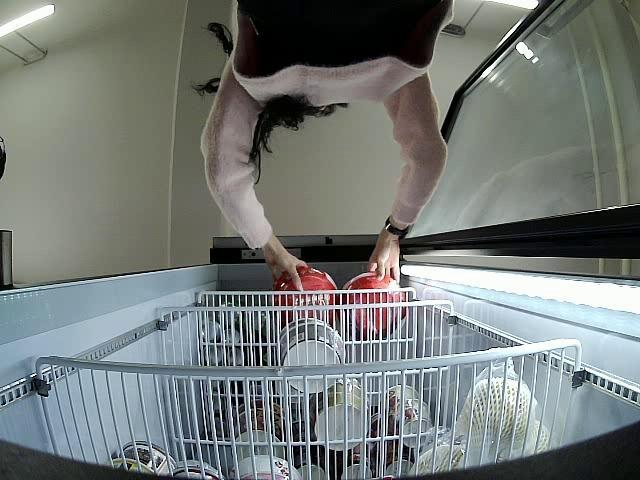10_wangTtukkeong: (342, 273, 407, 334), (275, 264, 341, 322)
